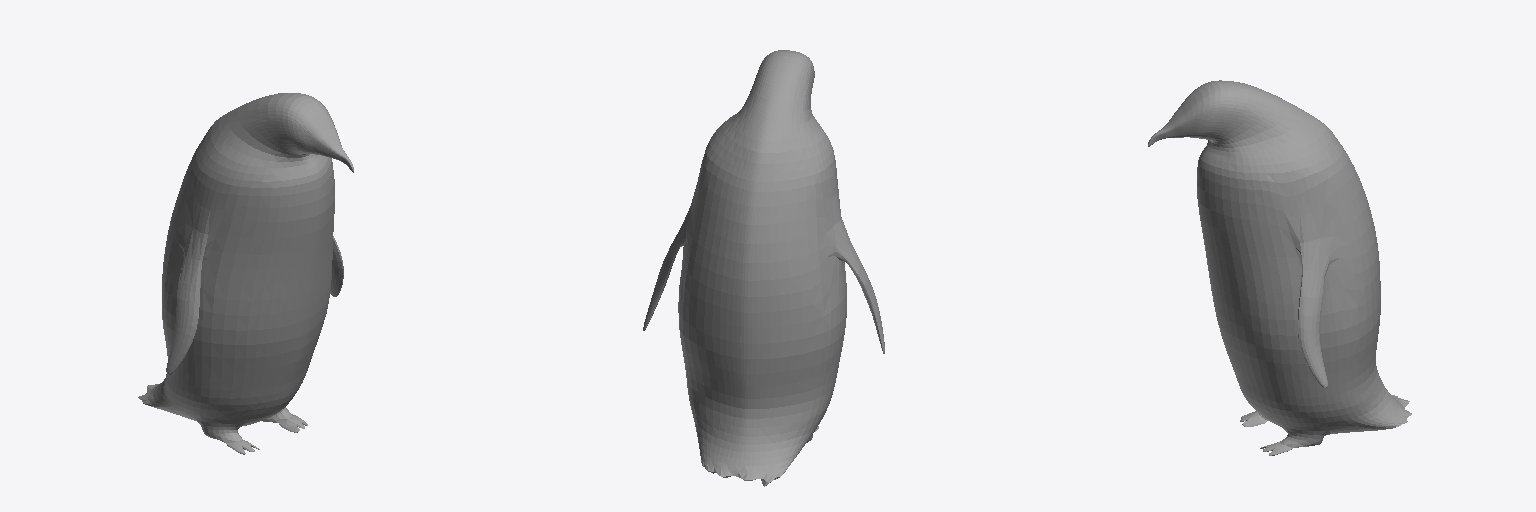
File: penguin6.obj
The picture shows the model from 3 angles: view 1: azimuth 30°, elevation 25°; view 2: azimuth 150°, elevation 25°; view 3: azimuth 270°, elevation 25°; orthographic projection.
Visible parts, largest first — view 1: Penguin_Cylinder.006; view 2: Penguin_Cylinder.006; view 3: Penguin_Cylinder.006.
Boxes of the visible parts, <box> form: Penguin_Cylinder.006: <box>138,93,353,454</box>; Penguin_Cylinder.006: <box>643,50,884,486</box>; Penguin_Cylinder.006: <box>1148,80,1411,455</box>.
Bounding box in the file's own units: 2.31 × 3.82 × 2.58.